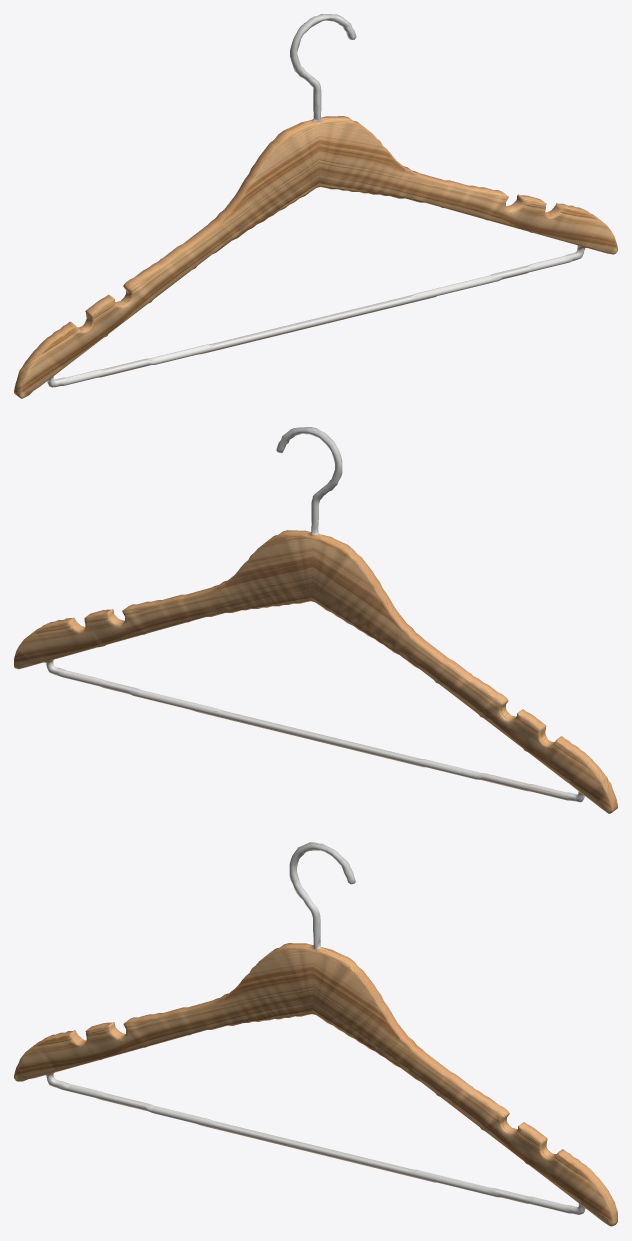
File: clothes_hang.glb
3 renders of one model, top to bottom at view 1: azimuth 30°, elevation 25°; view 2: azimuth 150°, elevation 25°; view 3: azimuth 330°, elevation 25°, orthographic.
Bounding box in the file's own units: 1.91 × 0.9432 × 0.0352.
Materials: 1 (1 with a texture image).
